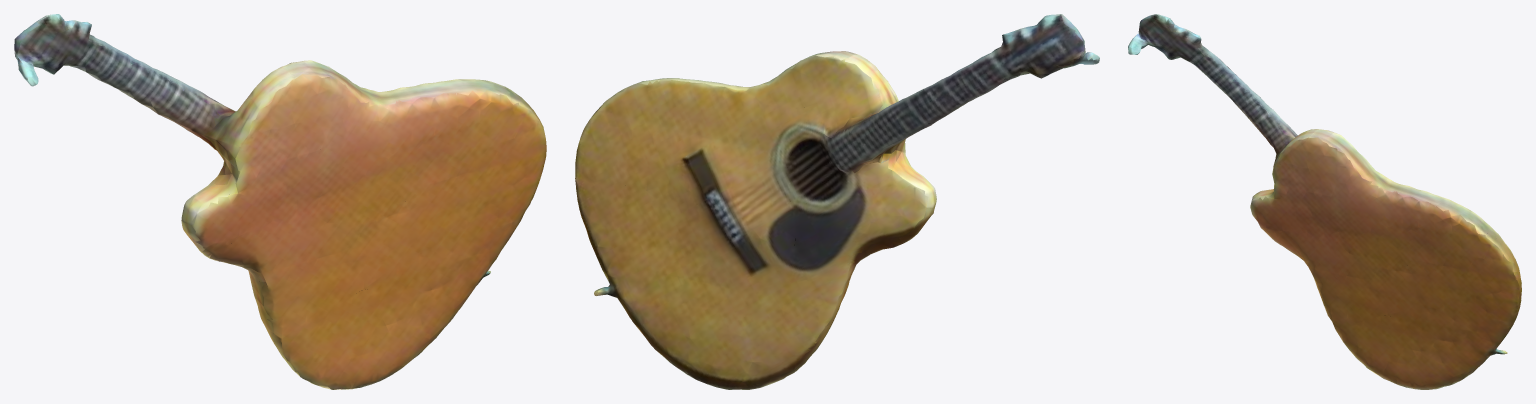
The picture shows the model from 3 angles, left to right: view 1: azimuth 30°, elevation 25°; view 2: azimuth 150°, elevation 25°; view 3: azimuth 330°, elevation 25°; orthographic projection. The views are drawn at different scales.
Parts seen in each view (by area): view 1: world; view 2: world; view 3: world.
Boxes of the visible parts, <box> form: world: <box>14,14,546,389</box>; world: <box>575,14,1099,389</box>; world: <box>1128,14,1521,389</box>.
Size of the model in its own units: 1.02 by 0.8508 by 0.1564.
Materials: 1 (1 with a texture image).
